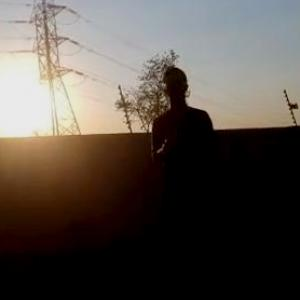follow: (150, 59, 238, 299)
